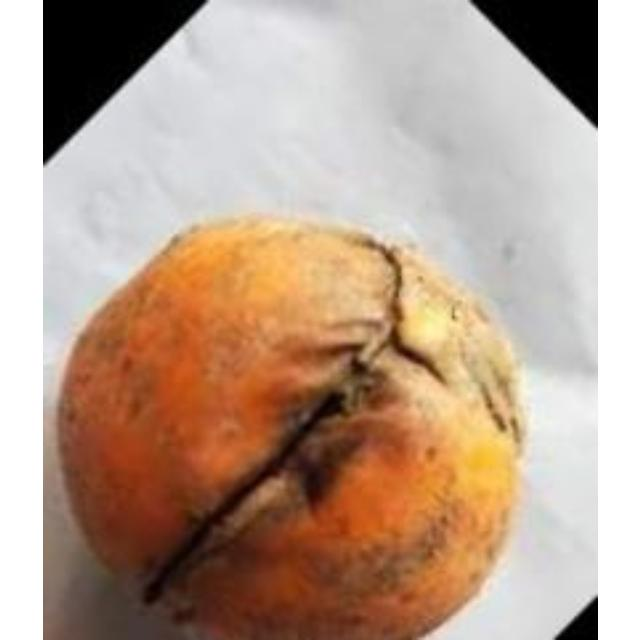damaged: (55, 215, 531, 637)
